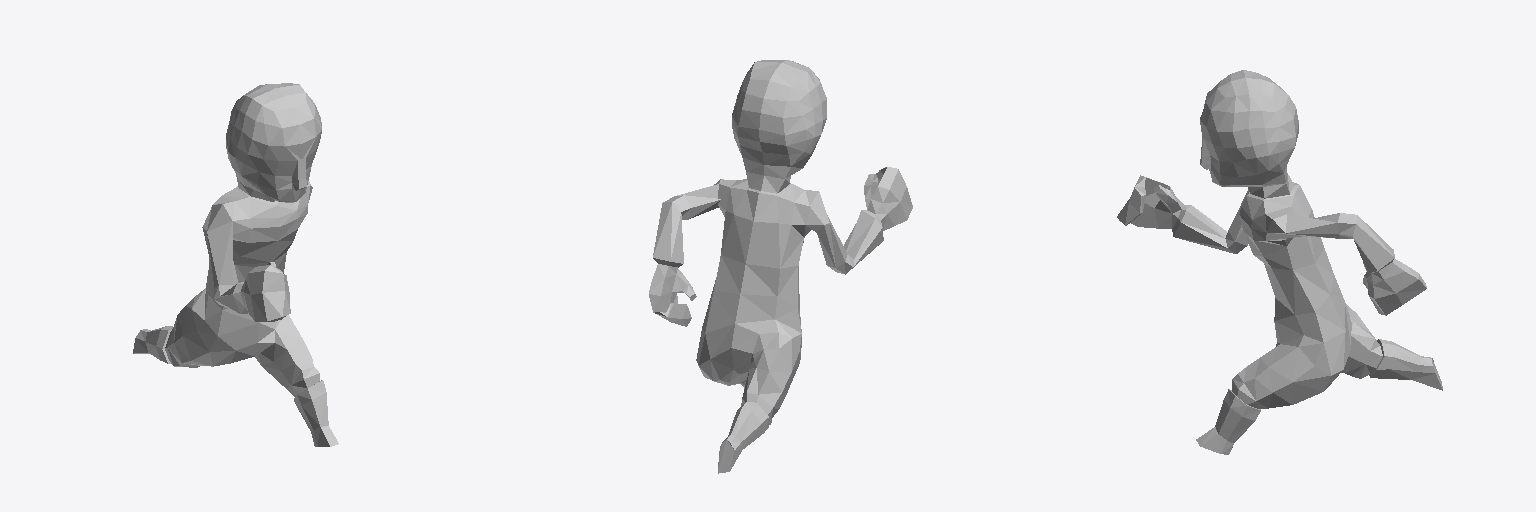
The model's file is KnightCharacter12.obj.
The picture shows the model from 3 angles: view 1: azimuth 30°, elevation 25°; view 2: azimuth 150°, elevation 25°; view 3: azimuth 270°, elevation 25°; orthographic projection.
Visible parts, largest first — view 1: Knight; view 2: Knight; view 3: Knight.
Part boxes in pixels (x1,y1,x2,y2): Knight: (133, 83, 338, 446); Knight: (649, 60, 912, 473); Knight: (1117, 70, 1442, 454).
Bounding box in the file's own units: 2.06 × 5.05 × 4.16.